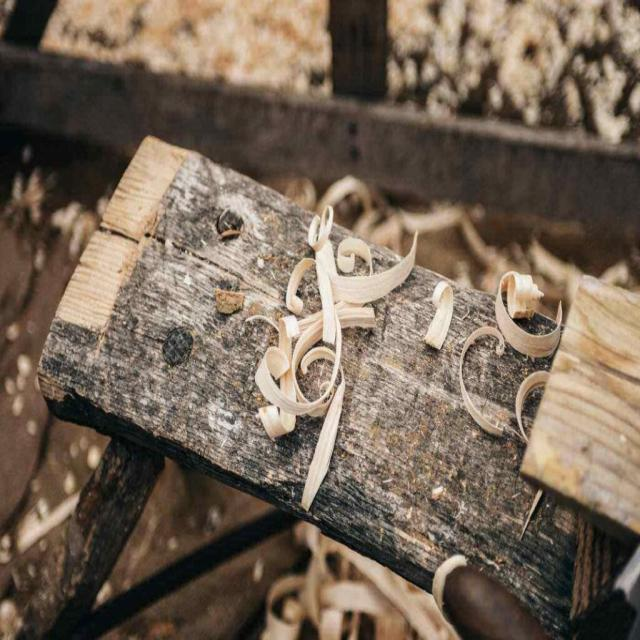green waste: (4, 87, 640, 619)
